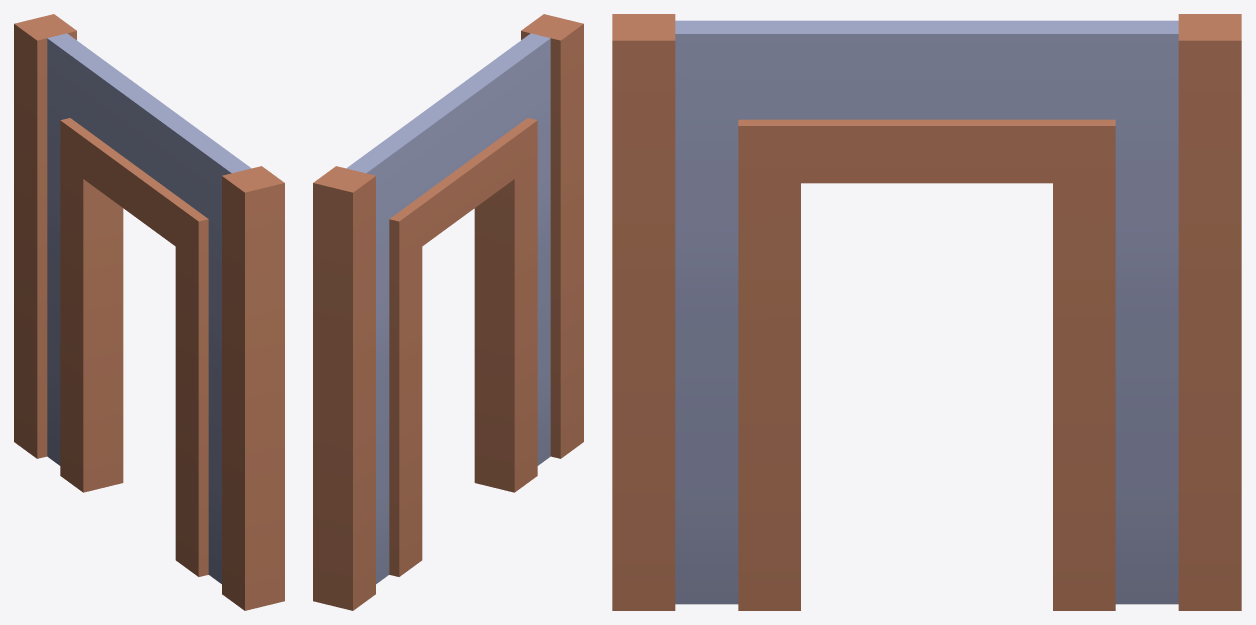
Rendered from wall-doorway-square.glb.
The picture shows the model from 3 angles, left to right: view 1: azimuth 30°, elevation 25°; view 2: azimuth 150°, elevation 25°; view 3: azimuth 270°, elevation 25°; orthographic projection. The views are drawn at different scales.
Parts seen in each view (by area): view 1: wall-doorway-square; view 2: wall-doorway-square; view 3: wall-doorway-square.
Part boxes in pixels (x1,y1,x2,y2): wall-doorway-square: [14, 14, 284, 610]; wall-doorway-square: [313, 14, 583, 610]; wall-doorway-square: [612, 14, 1241, 610].
Size of the model in its own units: 0.1 by 1 by 1.
1 material, 1 textured.
